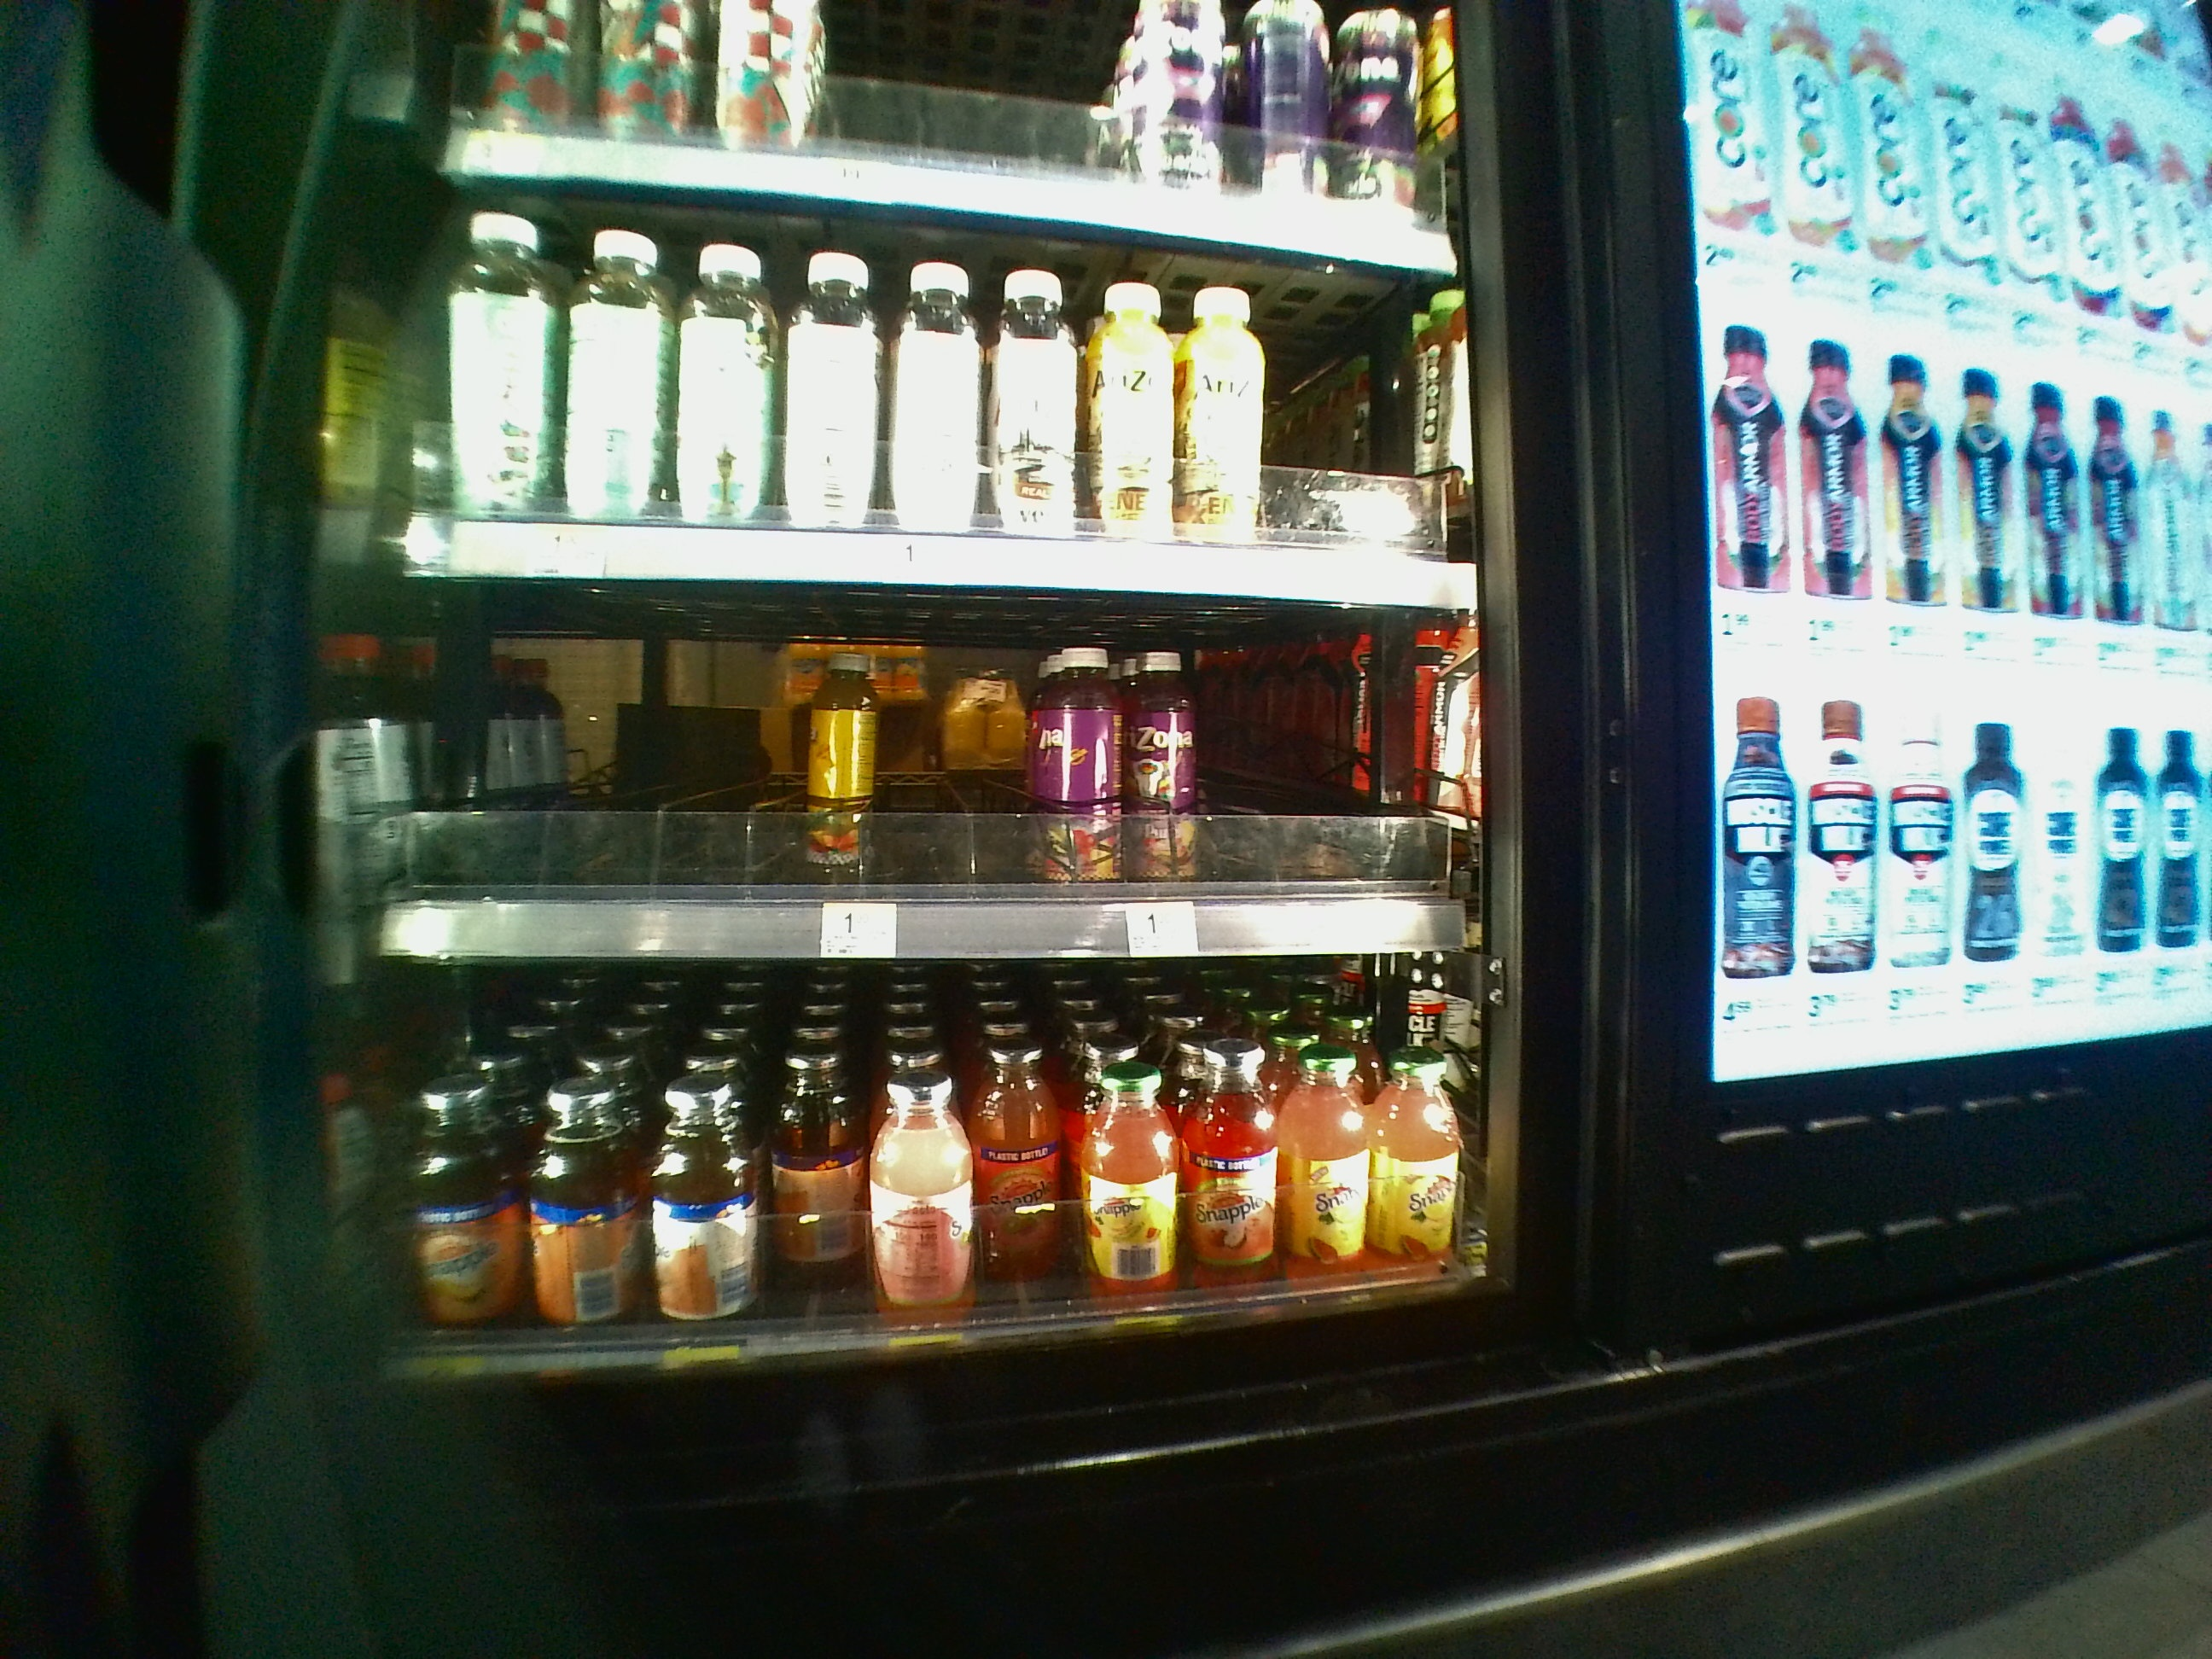shelf: (366, 964, 1489, 1371), (371, 568, 1475, 955)
